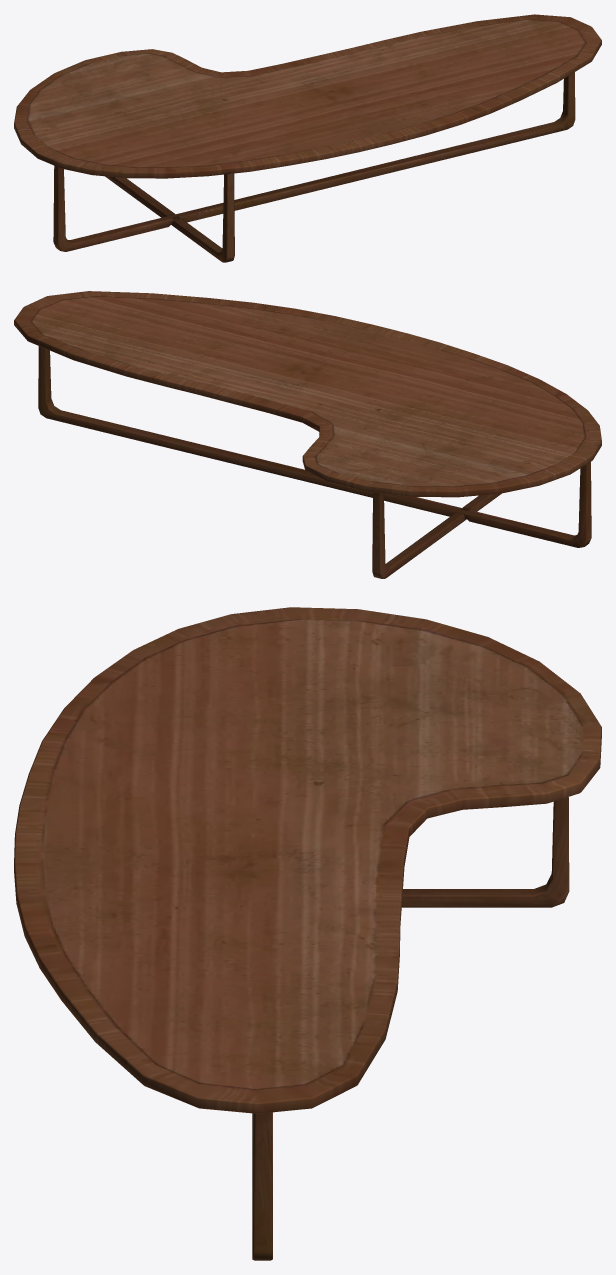
File: Mesa de centro.glb
The picture shows the model from 3 angles, top to bottom: view 1: azimuth 30°, elevation 25°; view 2: azimuth 150°, elevation 25°; view 3: azimuth 270°, elevation 25°; orthographic projection. The views are drawn at different scales.
Visible parts, largest first — view 1: CoffeeTable_CoffeeTable_mat_0; view 2: CoffeeTable_CoffeeTable_mat_0; view 3: CoffeeTable_CoffeeTable_mat_0.
Boxes of the visible parts, x1=… form: CoffeeTable_CoffeeTable_mat_0: x1=14, y1=14, x2=601, y2=262; CoffeeTable_CoffeeTable_mat_0: x1=14, y1=291, x2=601, y2=578; CoffeeTable_CoffeeTable_mat_0: x1=14, y1=607, x2=601, y2=1260.
Size of what is drawn, in the model's own units: 2.88 by 0.4873 by 1.44.
1 material, 1 textured.
